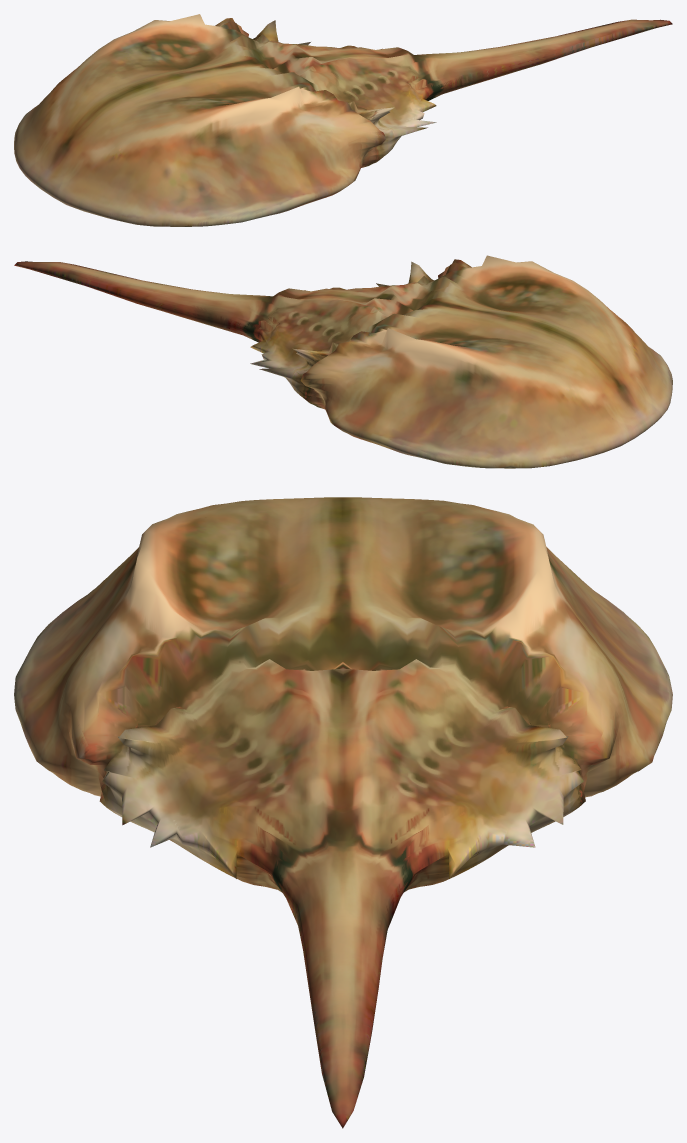
The model's file is horseshoe_crab.glb.
The picture shows the model from 3 angles, top to bottom: view 1: azimuth 30°, elevation 25°; view 2: azimuth 150°, elevation 25°; view 3: azimuth 270°, elevation 25°; orthographic projection. The views are drawn at different scales.
Visible parts, largest first — view 1: horseshoe-crab; view 2: horseshoe-crab; view 3: horseshoe-crab.
Part boxes in pixels (<box>): horseshoe-crab: <box>14,14,672,226</box>; horseshoe-crab: <box>14,255,672,468</box>; horseshoe-crab: <box>14,497,672,1128</box>.
Size of the model in its own units: 4.01 by 0.6132 by 1.92.
Materials: 1 (1 with a texture image).
